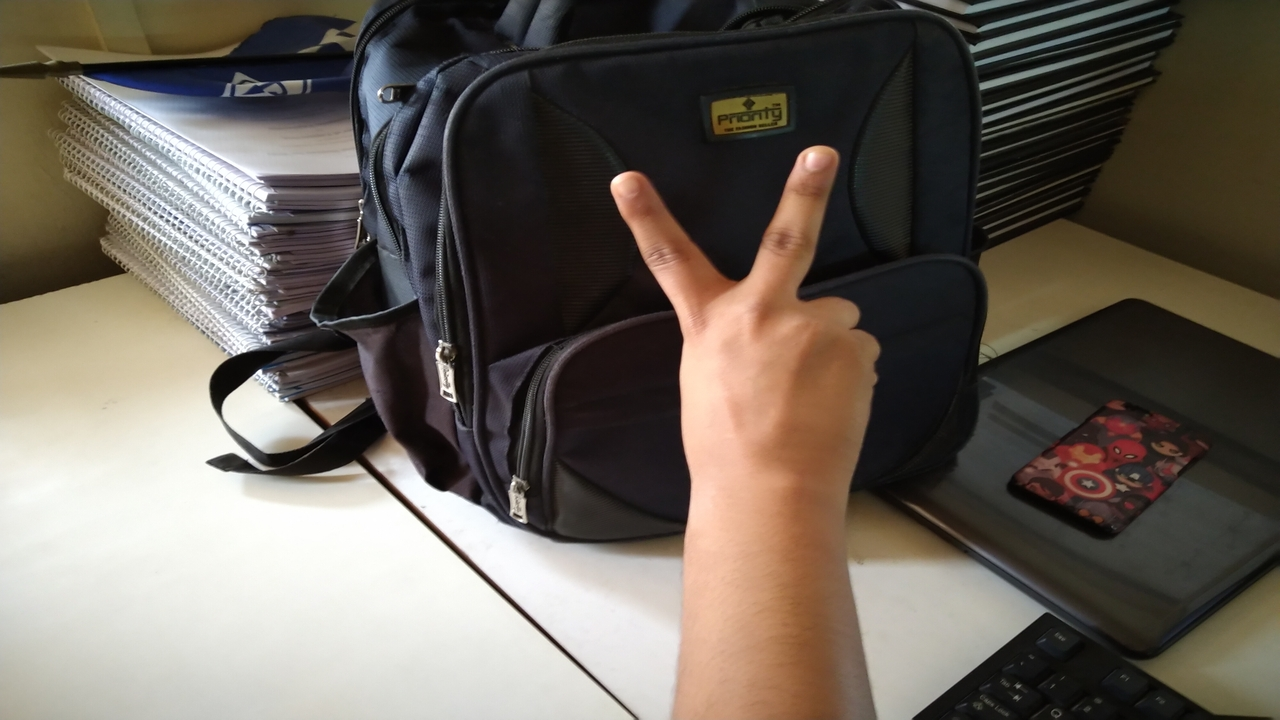fingertip: (600, 162, 664, 214), (782, 136, 844, 186)
